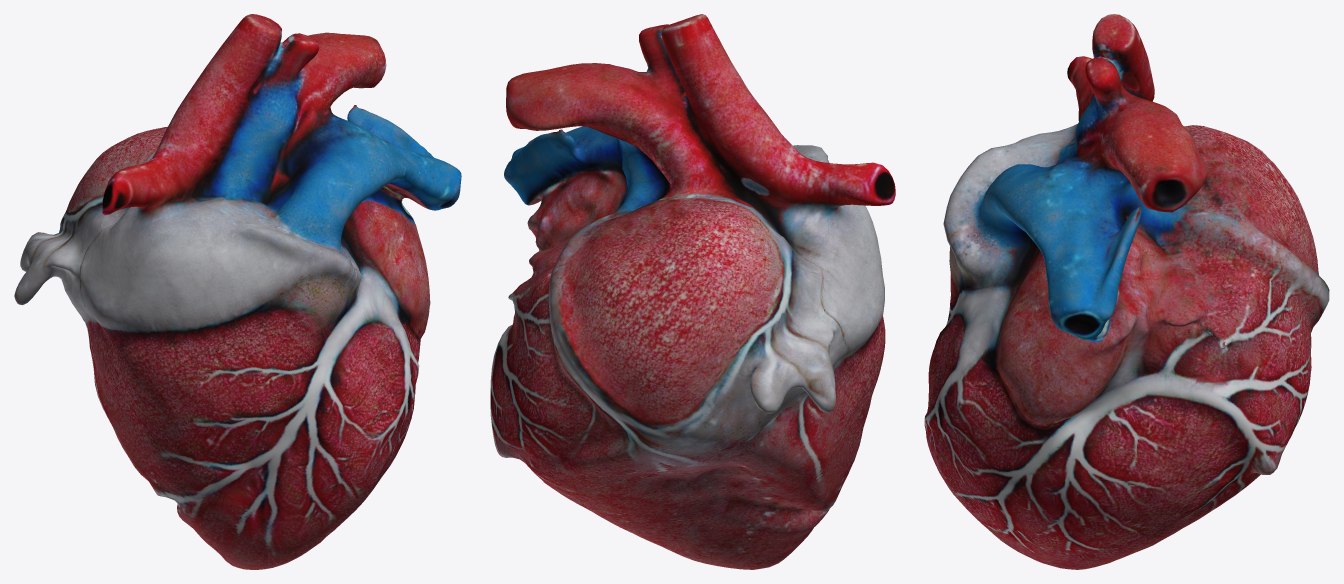
Rendered from asset.glb.
3 views of the same model, side by side, from view 1: azimuth 30°, elevation 25°; view 2: azimuth 150°, elevation 25°; view 3: azimuth 270°, elevation 25° (orthographic). The views are drawn at different scales.
Visible parts, largest first — view 1: mesh; view 2: mesh; view 3: mesh.
Part boxes in pixels (x1,y1,x2,y2): mesh: (14,14,461,569); mesh: (490,14,895,569); mesh: (924,14,1329,569).
Bounding box in the file's own units: 80.32 × 108 × 71.78.
Materials: 2 (1 with a texture image).
